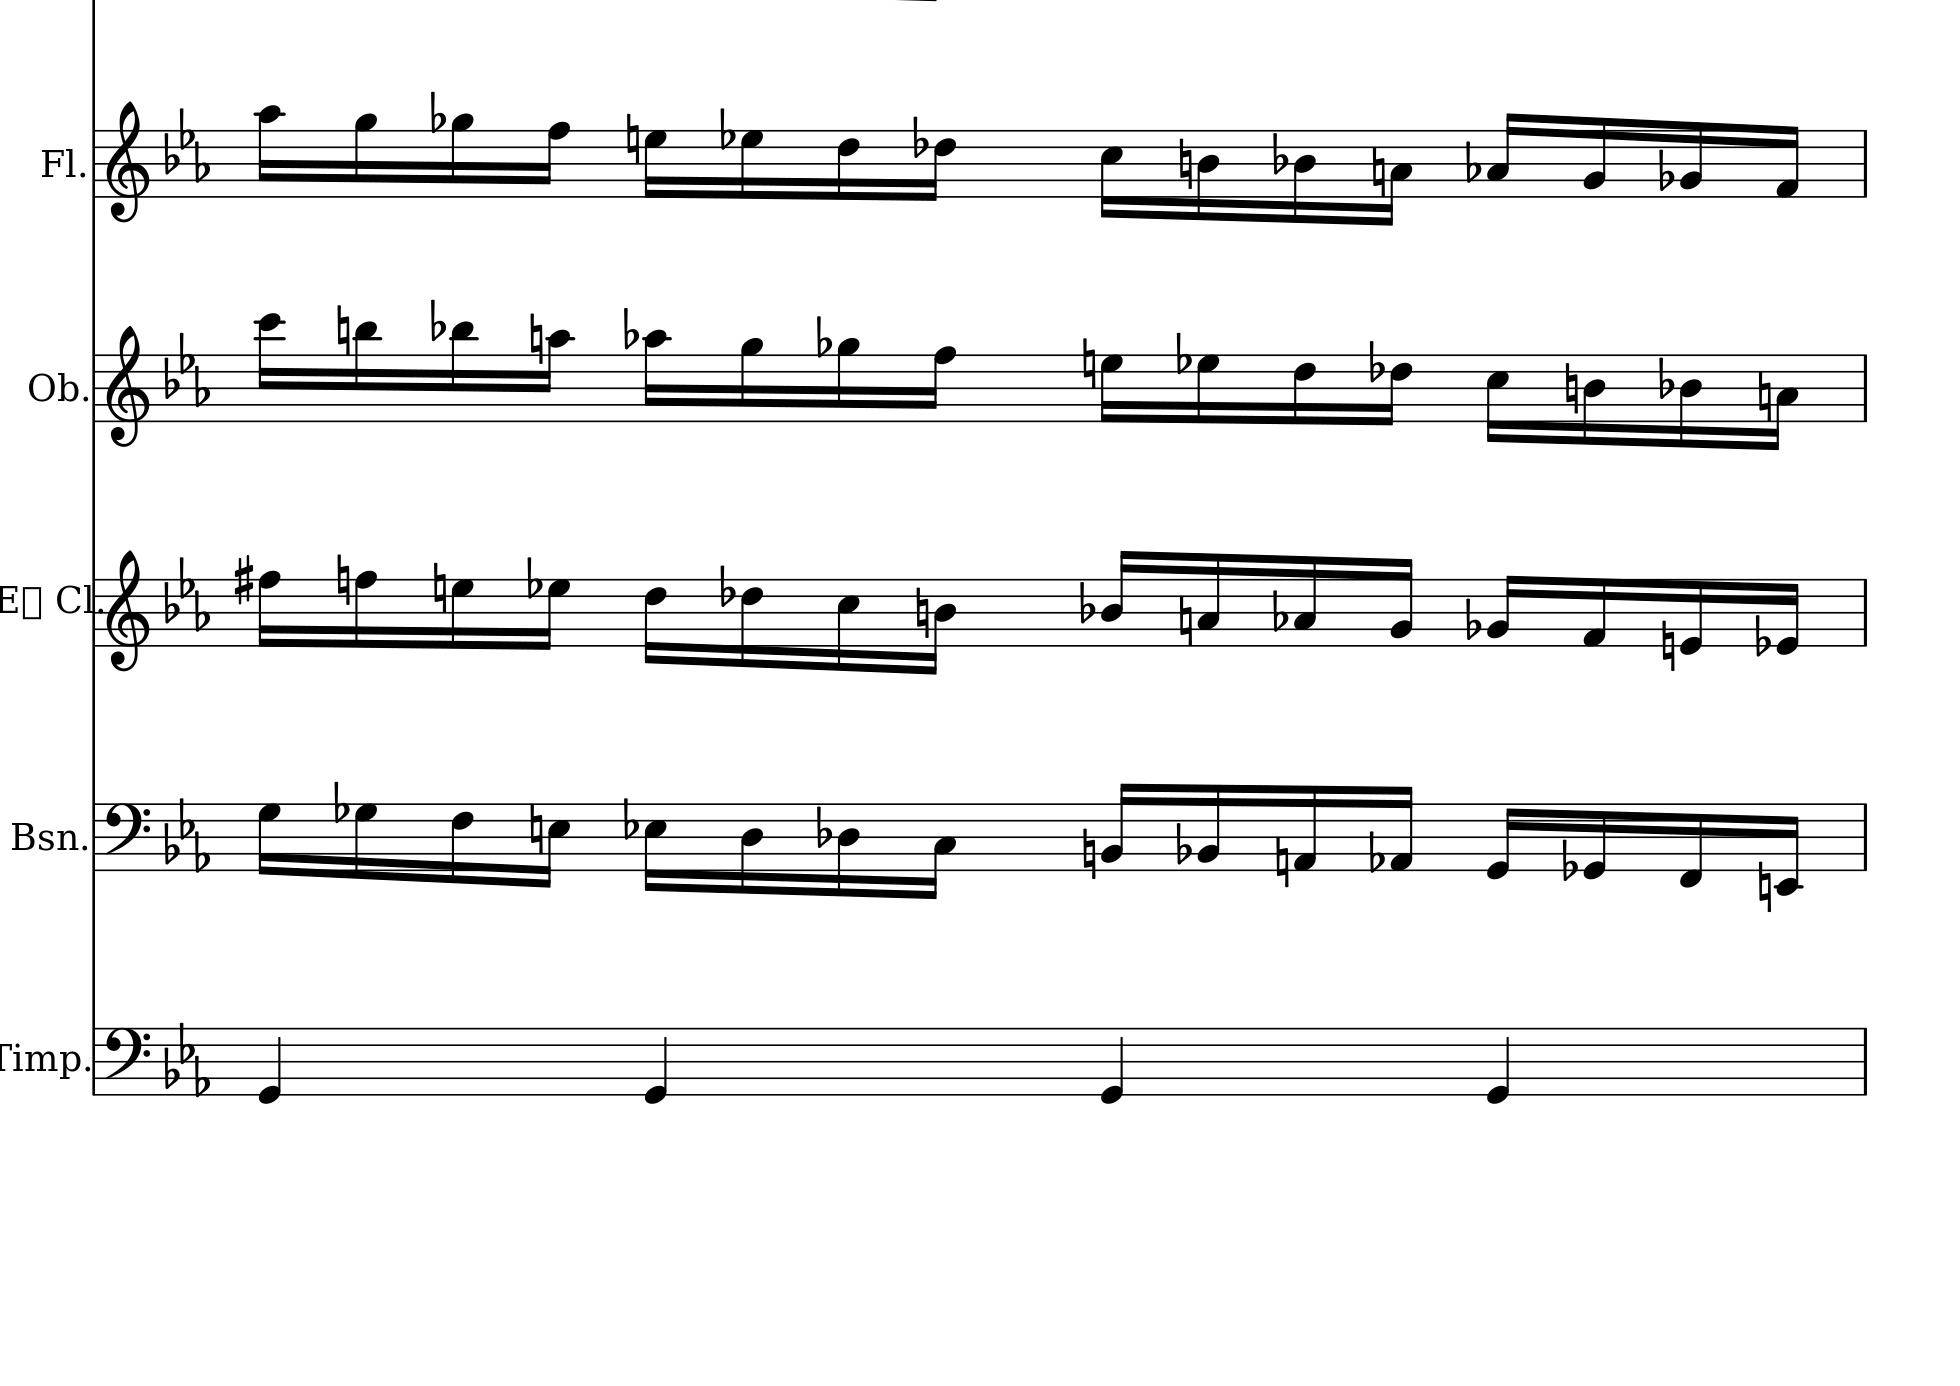16_-1: (1678, 801, 1705, 889)
16_-2: (1773, 801, 1801, 897)
16_0: (1485, 801, 1519, 882), (1678, 576, 1705, 655), (1582, 801, 1609, 880), (1776, 577, 1801, 657)
16_1: (1293, 783, 1320, 874), (1389, 783, 1416, 873), (1581, 574, 1609, 648), (1774, 123, 1801, 199)
16_10: (540, 328, 573, 424), (640, 328, 669, 424), (255, 103, 282, 199)
16_11: (447, 319, 475, 424), (352, 319, 379, 424)
16_12: (255, 312, 283, 423)
16_2: (1101, 780, 1134, 871), (1389, 555, 1416, 648), (1581, 114, 1609, 199), (1195, 781, 1222, 871), (1486, 571, 1518, 648), (1680, 118, 1707, 199)
16_3: (922, 799, 957, 901), (1486, 109, 1519, 199), (1770, 352, 1800, 451), (1384, 127, 1413, 228), (1195, 550, 1222, 649), (1293, 553, 1320, 646)
16_4: (1099, 547, 1132, 646), (927, 576, 955, 676), (1291, 127, 1318, 226), (1677, 352, 1704, 450), (738, 801, 765, 897), (1581, 352, 1608, 447), (835, 799, 861, 898), (1197, 127, 1221, 223)
16_5: (540, 802, 571, 889), (1098, 127, 1125, 220), (835, 576, 861, 673), (1485, 352, 1510, 445), (642, 801, 667, 894)
16_6: (925, 127, 957, 202), (1381, 352, 1413, 427), (642, 574, 667, 666), (739, 574, 763, 670), (448, 801, 474, 885), (835, 127, 861, 202), (1291, 351, 1317, 426)
16_7: (537, 577, 570, 652), (1194, 351, 1221, 426), (255, 799, 280, 877), (352, 799, 376, 882), (1098, 351, 1123, 426), (448, 576, 474, 651), (642, 127, 667, 201), (738, 127, 763, 201)
16_8: (537, 118, 570, 199), (924, 343, 955, 423), (256, 568, 280, 649), (352, 568, 376, 649)
16_9: (738, 334, 763, 424), (834, 334, 859, 424), (352, 109, 376, 199), (448, 111, 472, 199)
4_0: (256, 1024, 283, 1105), (643, 1024, 670, 1105), (1485, 1024, 1512, 1105), (1101, 1024, 1125, 1105)
Bsn: (10, 817, 79, 858)
Cl: (55, 580, 91, 615)
E_F: (163, 553, 210, 631), (163, 330, 210, 406), (163, 1018, 210, 1095), (163, 106, 208, 181), (163, 796, 208, 871)
Fclef: (102, 799, 151, 871), (102, 1024, 151, 1096)
Fl: (37, 142, 79, 183)
Flat: (1077, 577, 1096, 625), (813, 802, 832, 850), (1462, 138, 1482, 184), (1462, 594, 1482, 640), (1173, 819, 1192, 865), (1656, 147, 1675, 192), (1366, 829, 1386, 874), (427, 88, 445, 136), (814, 313, 832, 361), (1656, 354, 1674, 402), (619, 798, 639, 841), (1270, 130, 1288, 177), (427, 297, 445, 343), (621, 304, 639, 351), (1366, 339, 1384, 385), (717, 564, 735, 610), (1270, 586, 1288, 633), (1753, 612, 1771, 658), (1560, 837, 1578, 883), (718, 106, 736, 151), (910, 115, 928, 160), (1174, 331, 1192, 376), (331, 780, 349, 825), (525, 555, 541, 601)
Gclef: (103, 97, 150, 223), (103, 324, 150, 448), (103, 549, 150, 673)
Natural: (1659, 618, 1677, 672), (528, 310, 544, 366), (624, 112, 640, 166), (1177, 136, 1194, 190), (334, 304, 351, 358), (1081, 337, 1098, 391), (334, 553, 351, 607), (430, 562, 447, 616), (913, 585, 930, 639), (1177, 594, 1194, 648), (1081, 826, 1098, 880), (1275, 835, 1291, 889), (1756, 859, 1773, 913), (528, 802, 544, 855), (1564, 361, 1579, 415), (1371, 145, 1386, 198), (1758, 370, 1773, 421)
Ob: (27, 366, 79, 406)
Sharp: (232, 552, 253, 607)
Single_barline: (1855, 577, 1875, 646), (1857, 354, 1875, 421), (1857, 802, 1873, 871), (1857, 129, 1873, 196), (1857, 1027, 1873, 1093), (87, 352, 102, 423), (87, 129, 102, 198), (88, 577, 103, 646), (87, 802, 102, 871), (87, 1027, 102, 1095)
